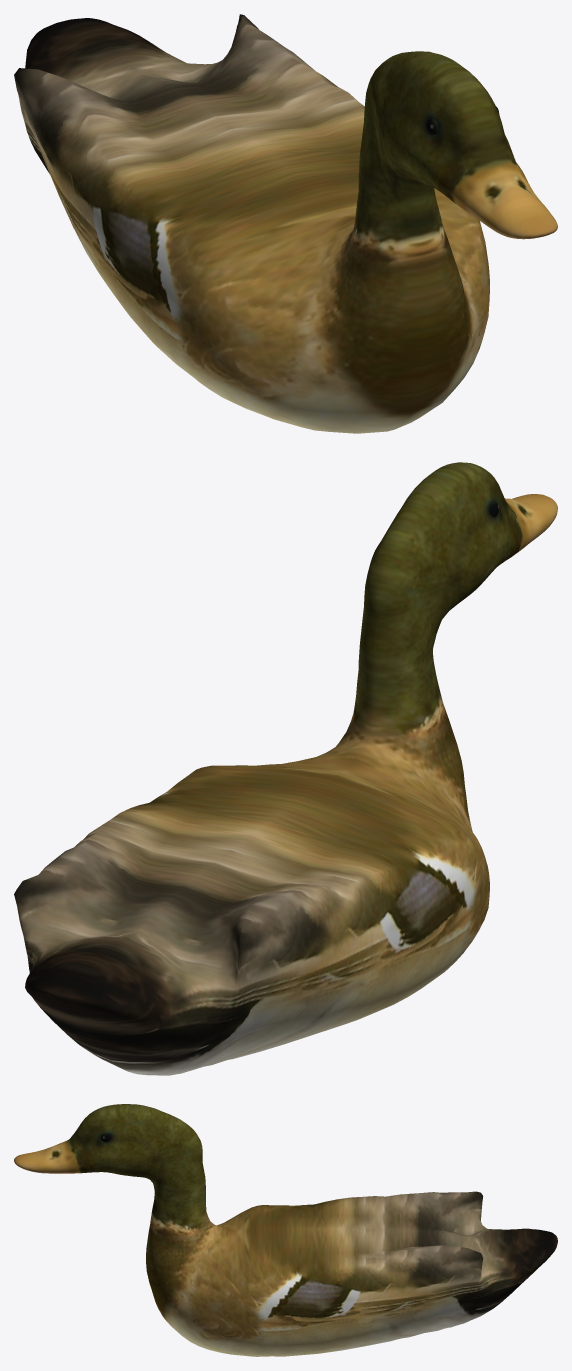
3 views of the same model, one above another, from view 1: azimuth 30°, elevation 25°; view 2: azimuth 150°, elevation 25°; view 3: azimuth 270°, elevation 25° (orthographic). The views are drawn at different scales.
Parts seen in each view (by area): view 1: duck; view 2: duck; view 3: duck.
Part boxes in pixels (x1=…): duck: x1=14, y1=14, x2=557, y2=433; duck: x1=14, y1=462, x2=557, y2=1075; duck: x1=14, y1=1104, x2=557, y2=1356.
Bounding box in the file's own units: 4.29 × 5.85 × 12.
